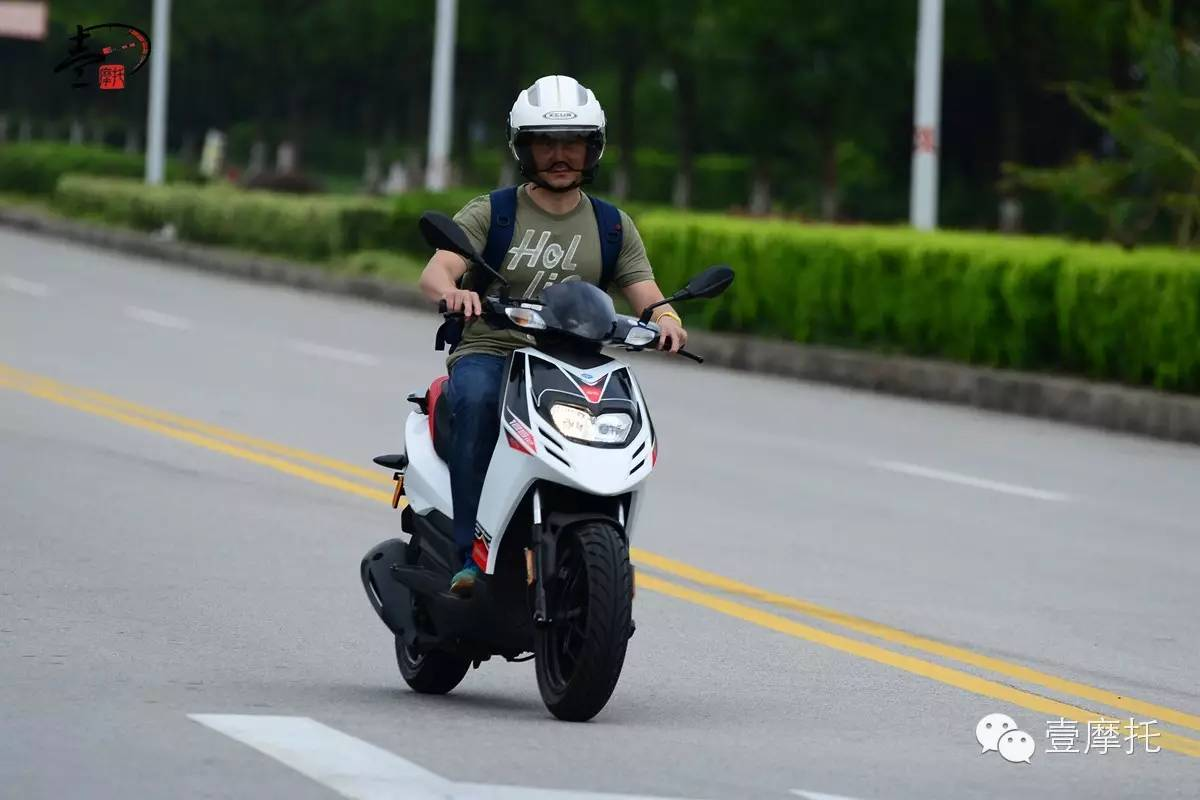ball: (509, 75, 607, 171)
